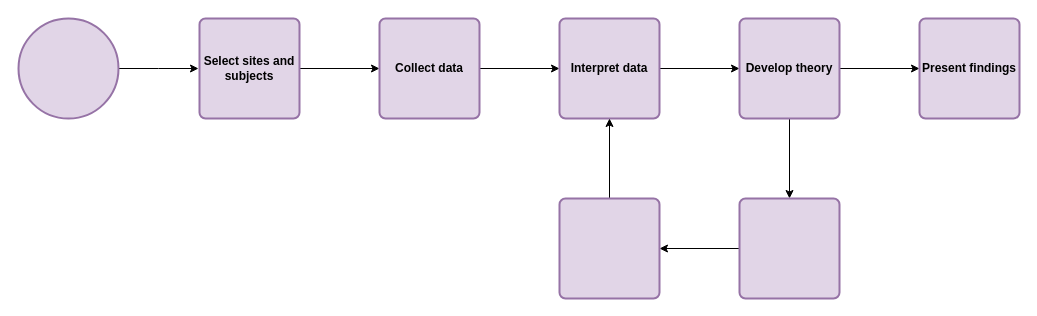
Image size: 1037x316. Some labels were removed from this diagram. Each missing label, with the centre of its shape:
Collect more data: pixel 609 248
General Question: pixel 68 68
Refine question: pixel 789 248
